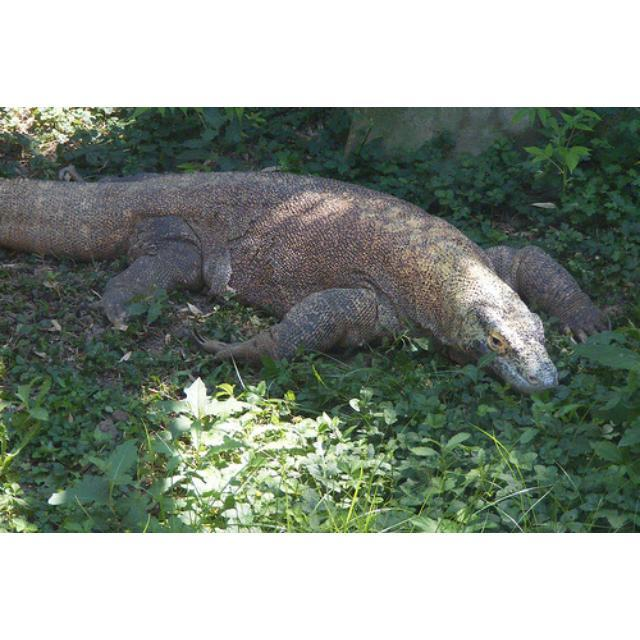KomodoDragon: (1, 169, 612, 395)
